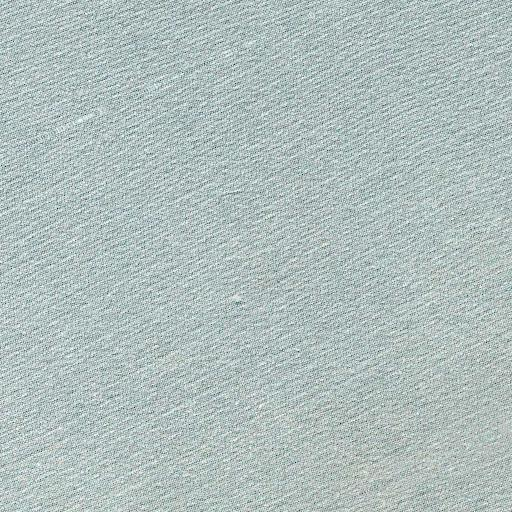knot: (221, 285, 258, 317)
